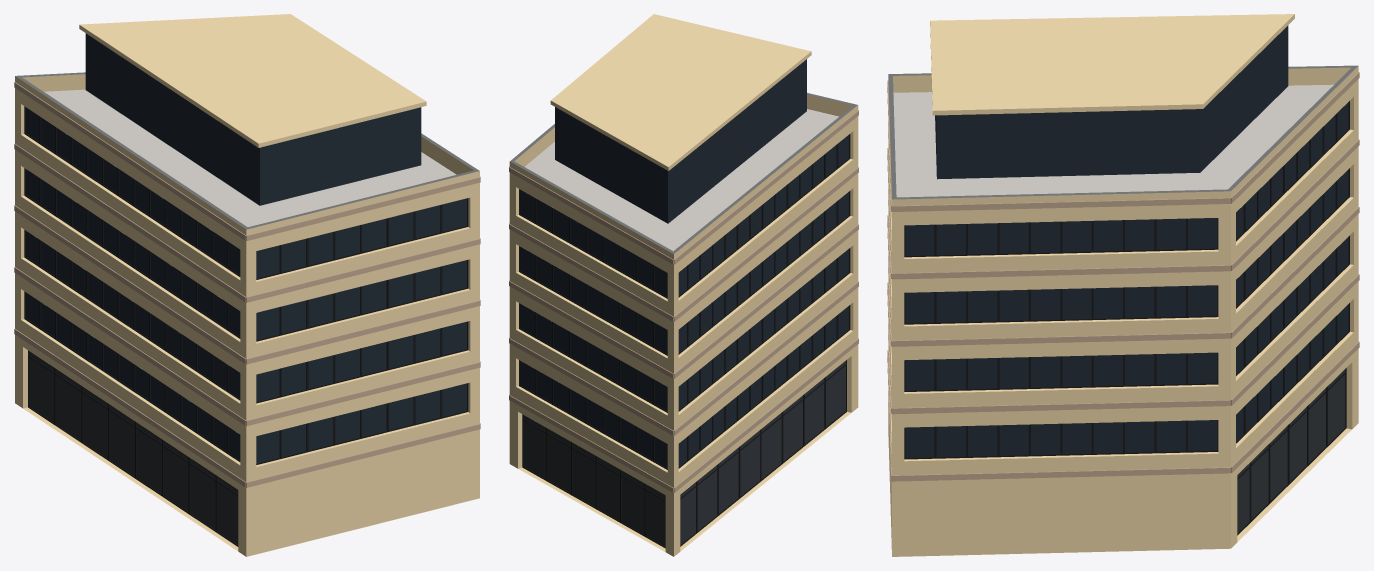
The model's file is office118.glb.
3 renders of one model, left to right at view 1: azimuth 30°, elevation 25°; view 2: azimuth 150°, elevation 25°; view 3: azimuth 270°, elevation 25°, orthographic. The views are drawn at different scales.
Parts seen in each view (by area): view 1: office118; view 2: office118; view 3: office118.
Boxes of the visible parts, box(x1,y1,x2,y2) form: office118: box(14, 14, 480, 556); office118: box(509, 14, 858, 556); office118: box(887, 14, 1359, 556).
Size of the model in its own units: 15.45 by 22.85 by 22.88.
